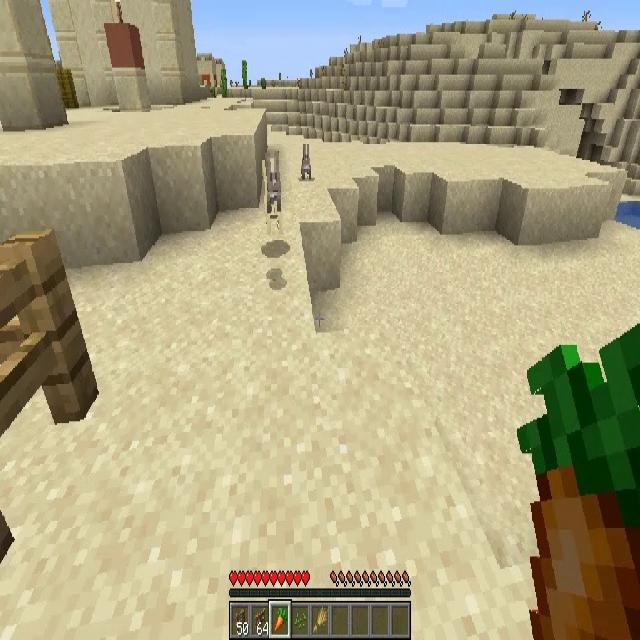rabbit: (264, 157, 283, 213), (265, 199, 285, 234), (300, 143, 312, 183)
